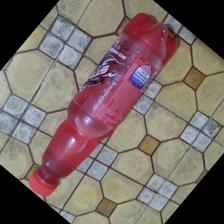Sting: (24, 11, 177, 195)
